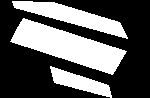parkingspot: (16, 18, 126, 62), (10, 30, 119, 74), (12, 1, 127, 38), (50, 66, 111, 97)
